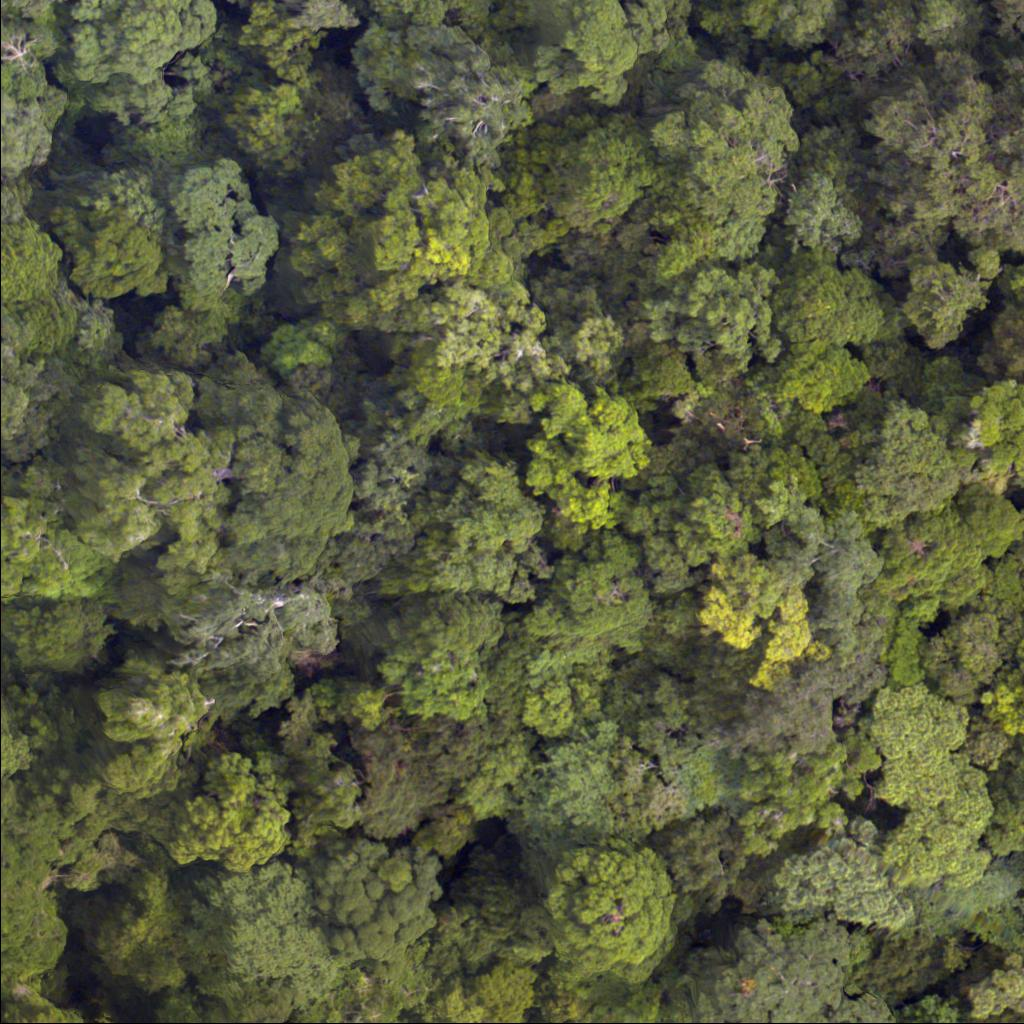crown: (194, 366, 383, 598), (302, 152, 488, 341), (853, 76, 1023, 265), (529, 830, 696, 1021), (649, 56, 813, 238), (358, 24, 542, 173), (696, 914, 907, 1023), (383, 470, 546, 611), (510, 391, 660, 528), (172, 879, 329, 1007), (167, 148, 298, 301), (168, 744, 307, 879), (359, 603, 509, 722), (303, 848, 442, 970), (518, 0, 641, 115), (543, 122, 659, 241), (635, 272, 769, 374), (780, 261, 887, 348), (983, 58, 1023, 183), (0, 15, 55, 101), (989, 306, 1023, 381), (0, 996, 59, 1023), (4, 0, 72, 19)
